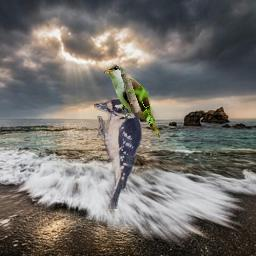Cuckoo: (102, 64, 164, 138)
Woodpecker: (94, 96, 144, 209)
